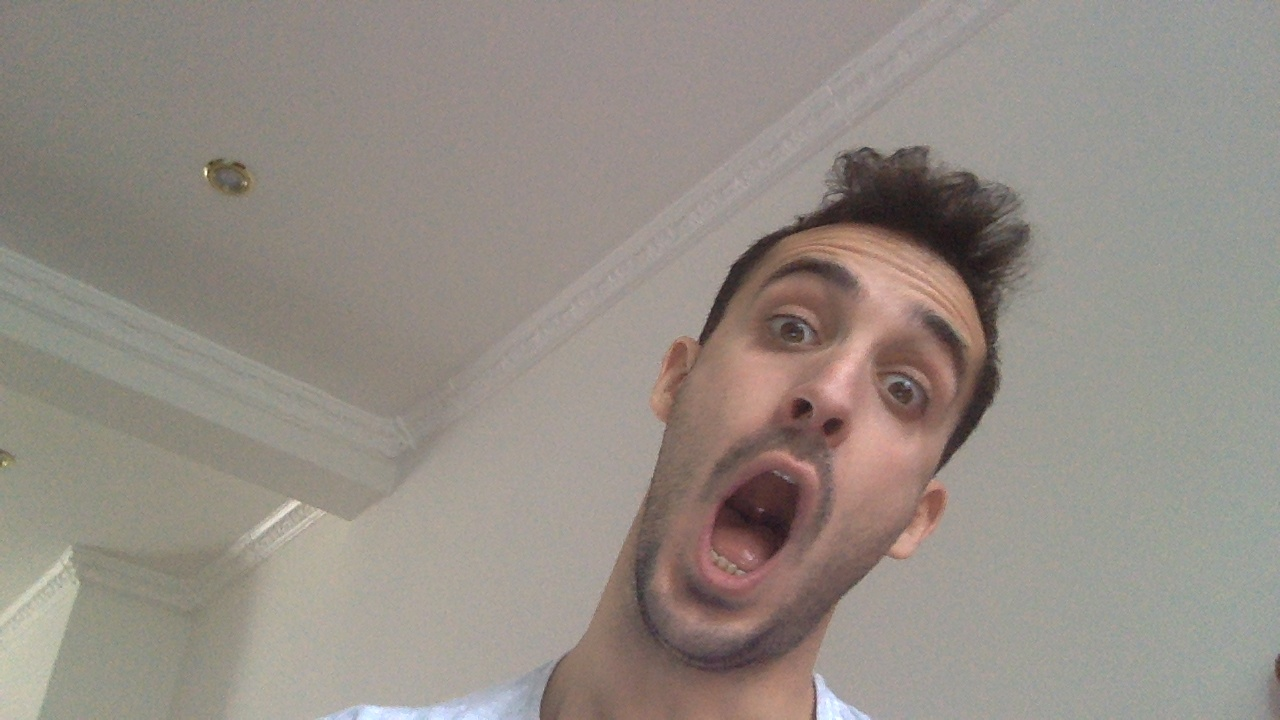surprise: (692, 454, 826, 596)
